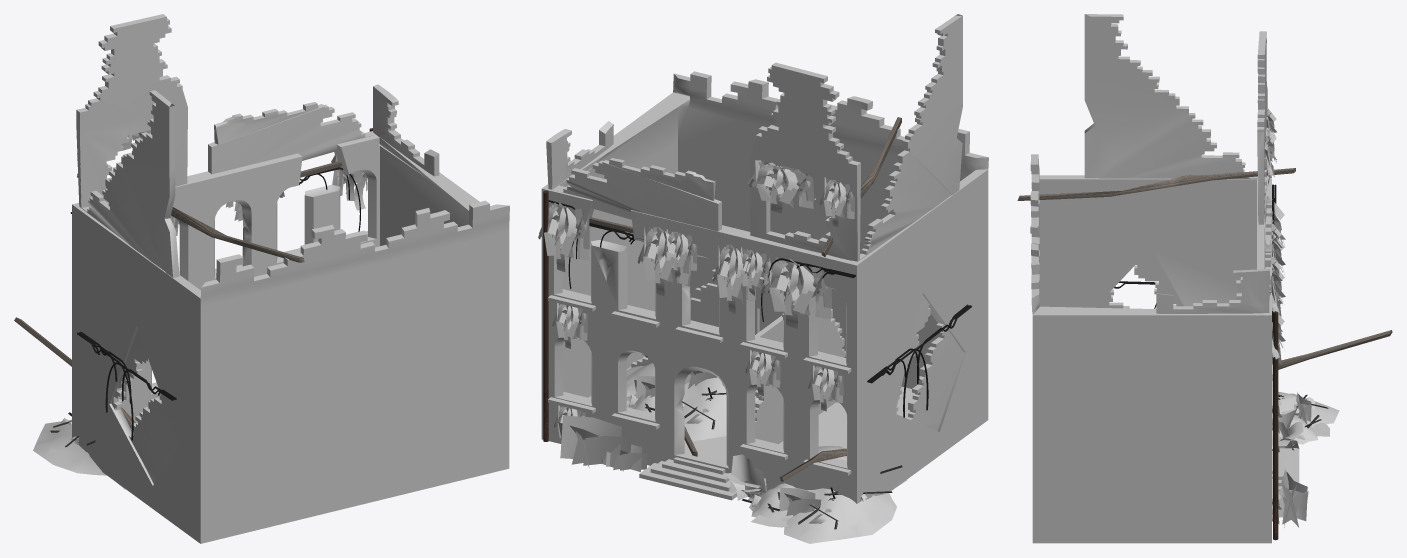
The model's file is house red2_LOD0.fbx.
3 renders of one model, left to right at view 1: azimuth 30°, elevation 25°; view 2: azimuth 150°, elevation 25°; view 3: azimuth 270°, elevation 25°, orthographic. The views are drawn at different scales.
Visible parts, largest first — view 1: house_red2_LOD0; view 2: house_red2_LOD0; view 3: house_red2_LOD0.
Part boxes in pixels (left/top/right/bottom): house_red2_LOD0: left=14, top=14, right=509, bottom=543; house_red2_LOD0: left=538, top=14, right=988, bottom=543; house_red2_LOD0: left=1017, top=14, right=1392, bottom=543.
Size of the model in its own units: 9.85 by 11.86 by 10.19.
